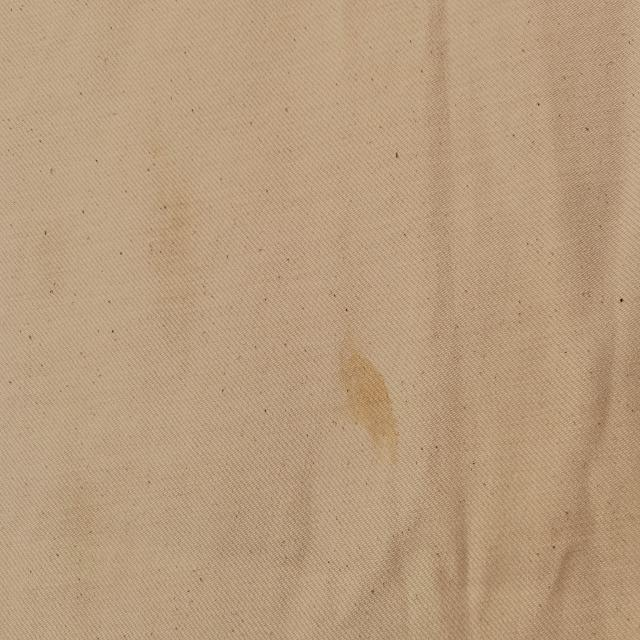taaaches: (338, 334, 402, 462)
